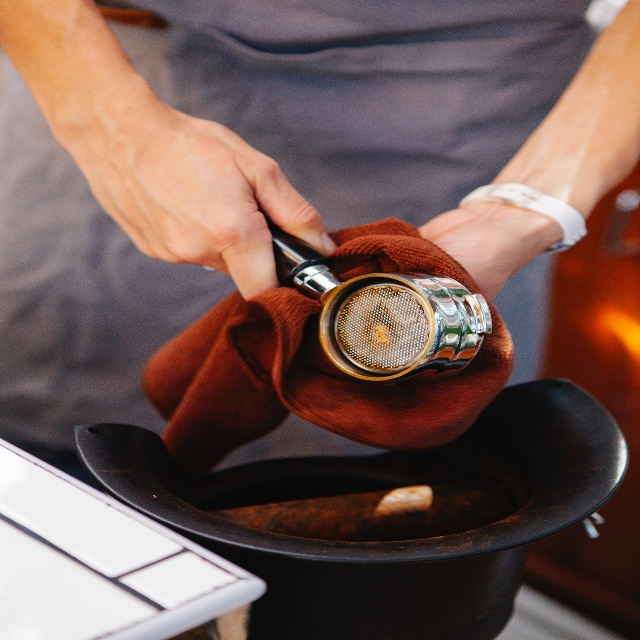Sin_guantes: (83, 95, 338, 301), (418, 208, 522, 301)
